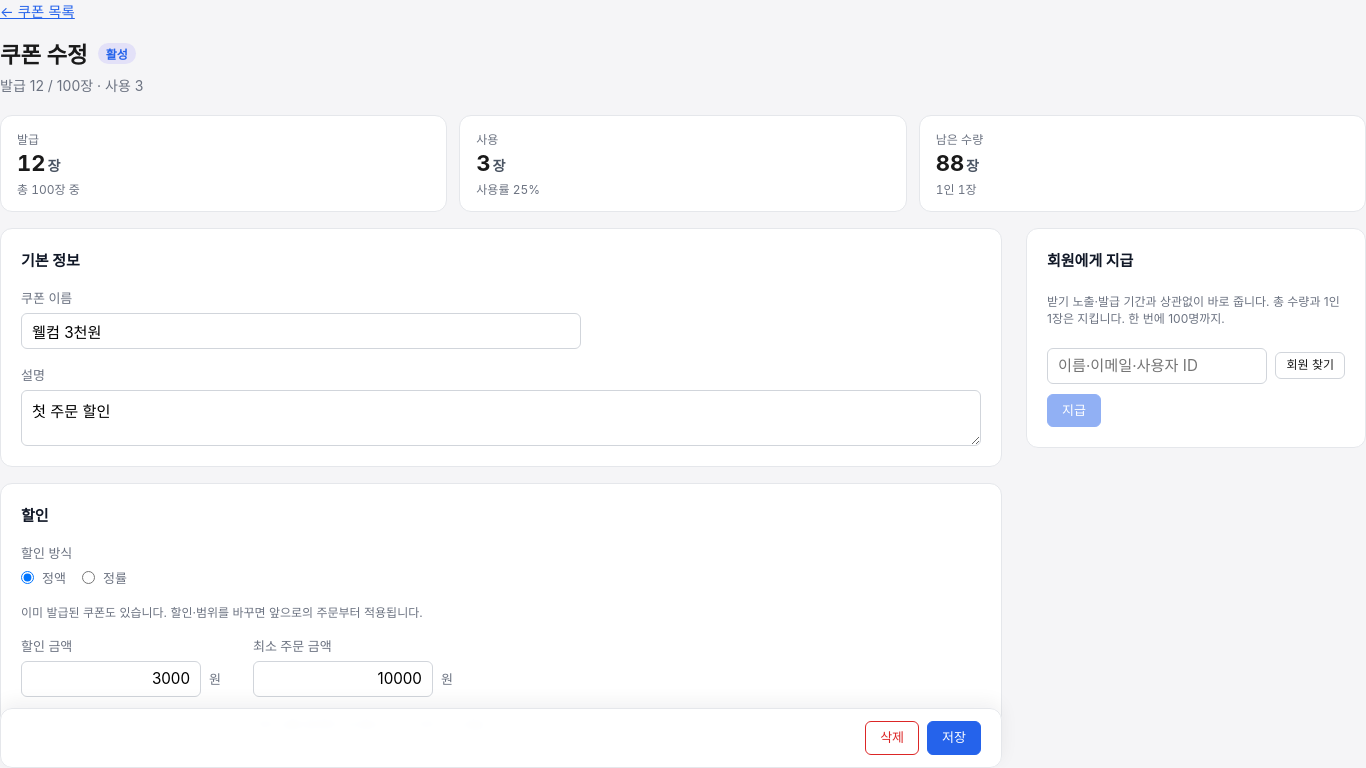
Test: CouponFormPage › loads a coupon for editing and saves in place
This screenshot has width=1366, height=768.
Expected: the heading "쿠폰 수정" is shown, [0, 37, 88, 69]
Expected: the text "발급 12 / 100장 · 사용 3" is shown, [0, 75, 143, 95]
Replace the text in the field labelled "쿠폰 이름" with "웰컴 쿠폰" at {"x": 301, "y": 331}, box [21, 313, 581, 349]
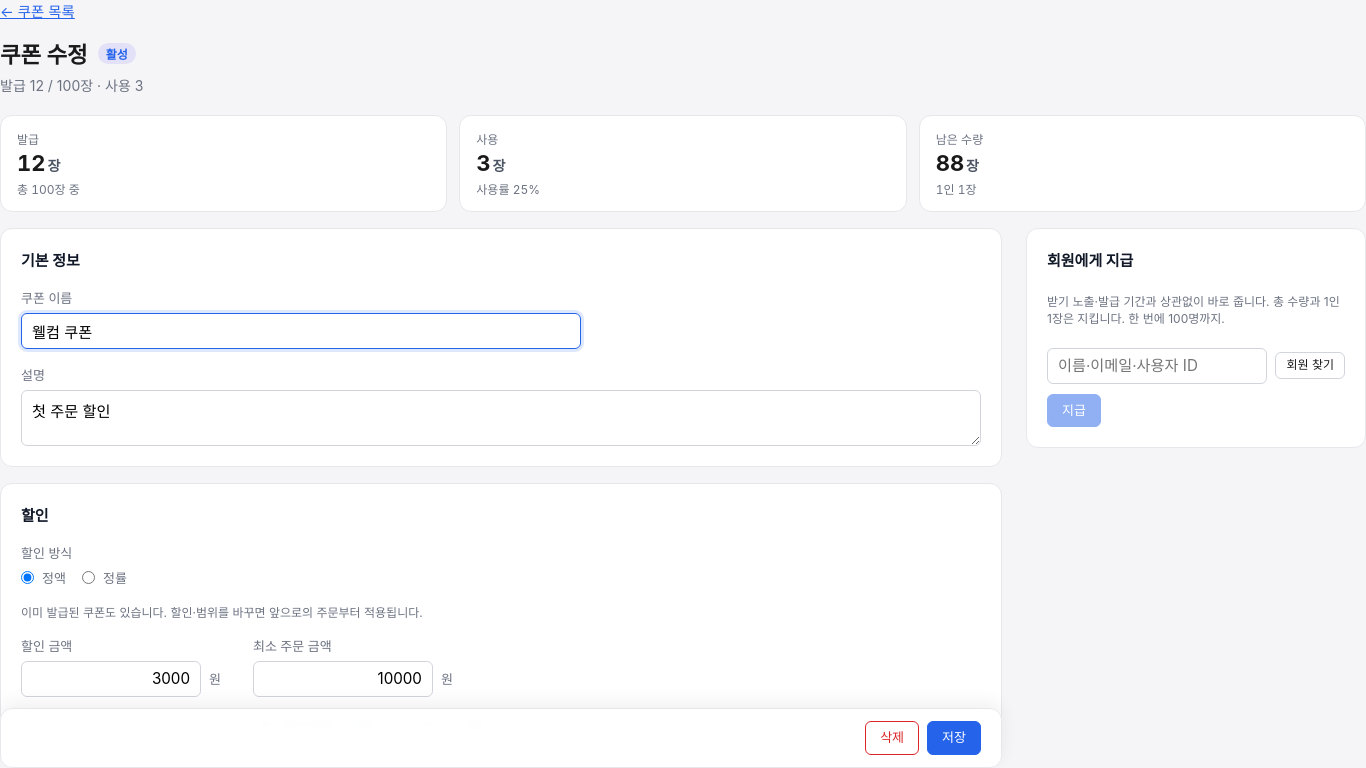
Click the button "저장".
click(954, 738)  # box [927, 721, 981, 755]
(page scrolled)
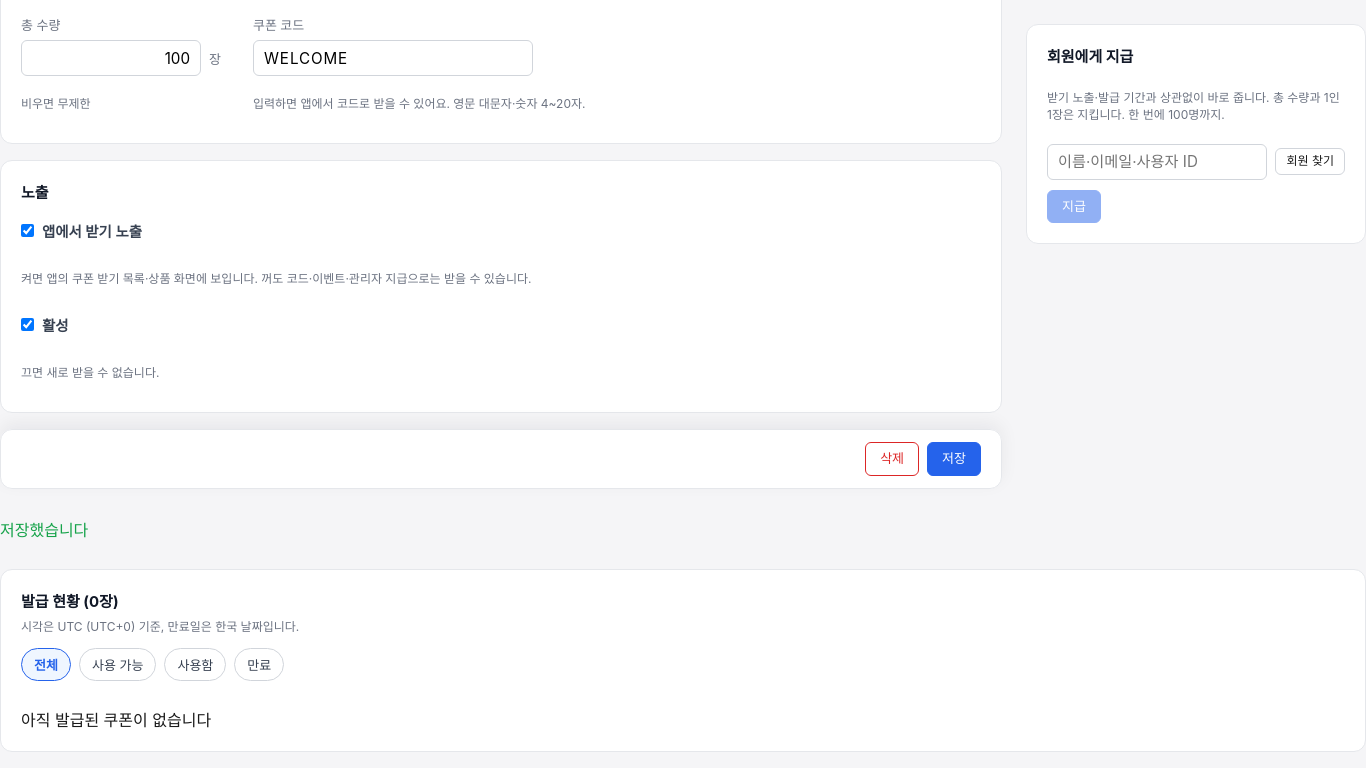
Result: the text "저장했습니다" is shown at [0, 520, 88, 540]
